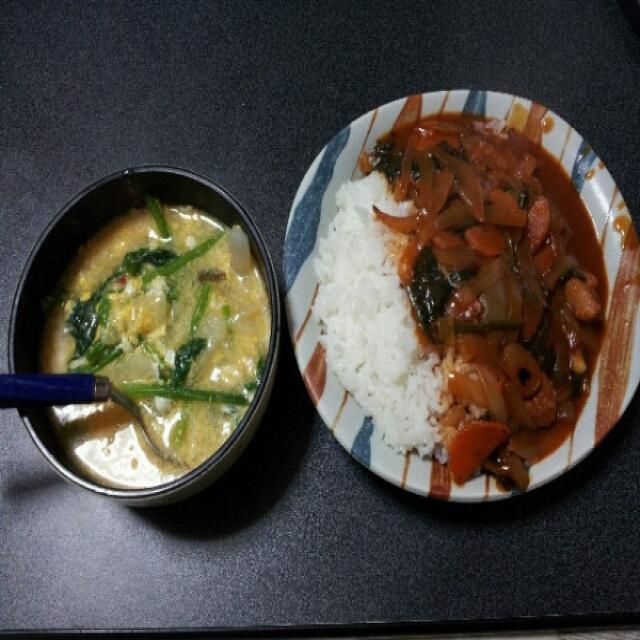Beef Curry: (429, 118, 604, 484)
